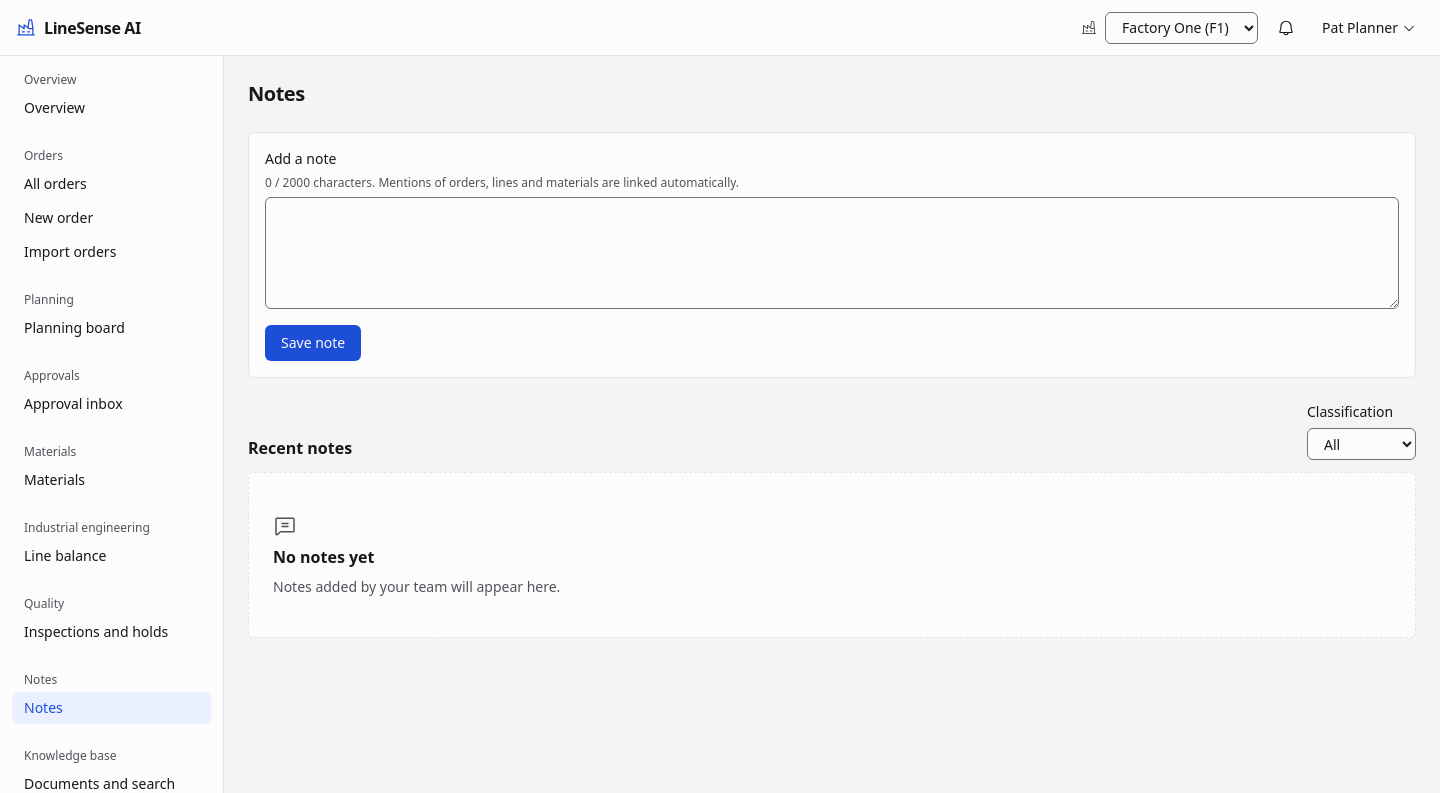
Test case: NotesPage › renders entity links and the navigation-only notice after creating a note
The width and height of the screenshot is (1440, 793).
Type "PO-1001 is delayed on Line A due to a shortage of fabric-01." into the text box labelled "Add a note" at [832, 253], box [265, 197, 1399, 309]
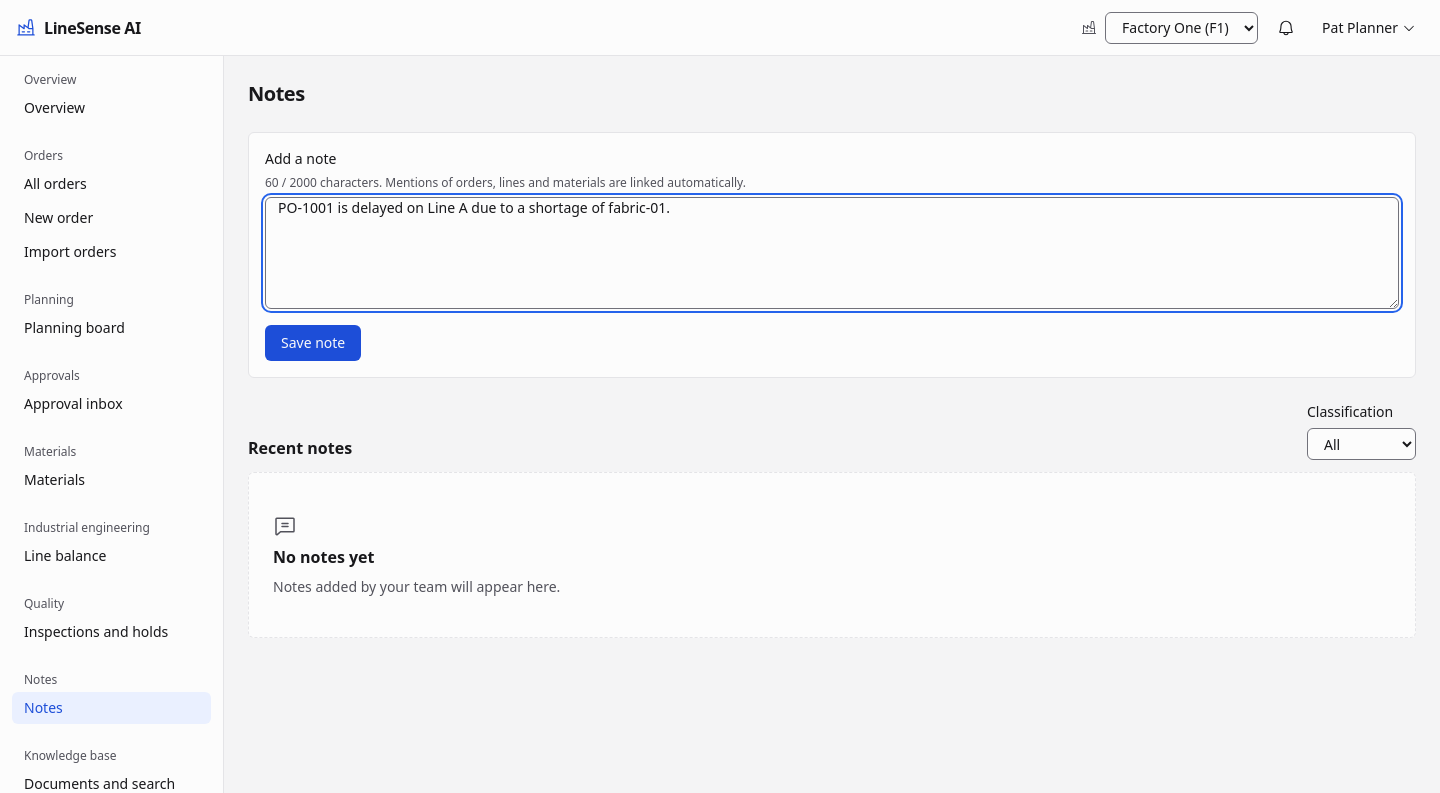
Click the button "Save note" at [313, 343], box [265, 325, 361, 361]
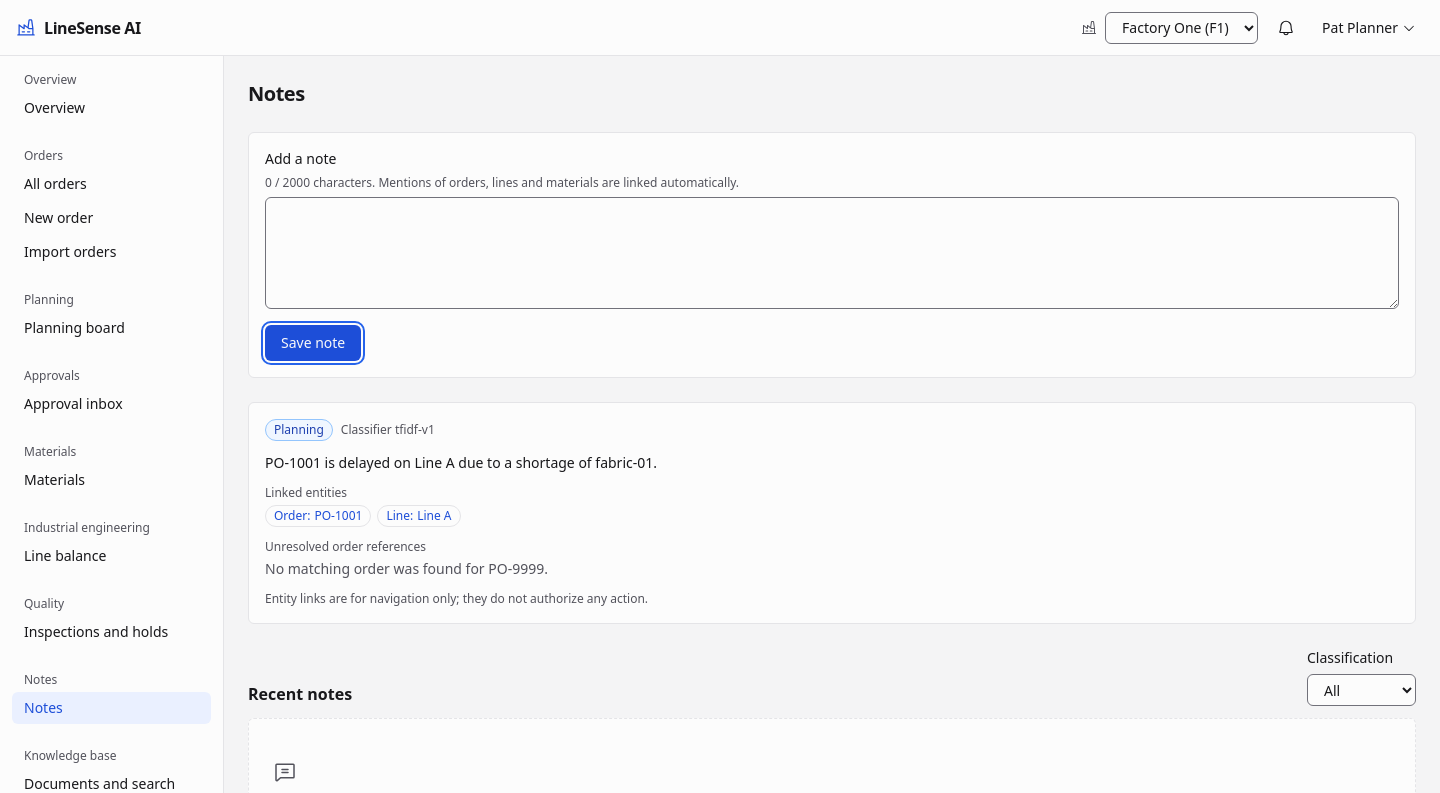
Result: the text "Planning" is shown at [265, 419, 333, 441]
Result: the text "Classifier tfidf-v1" is shown at [341, 422, 435, 438]
Result: the text "No matching order was found for PO-9999." is shown at [265, 559, 548, 578]
